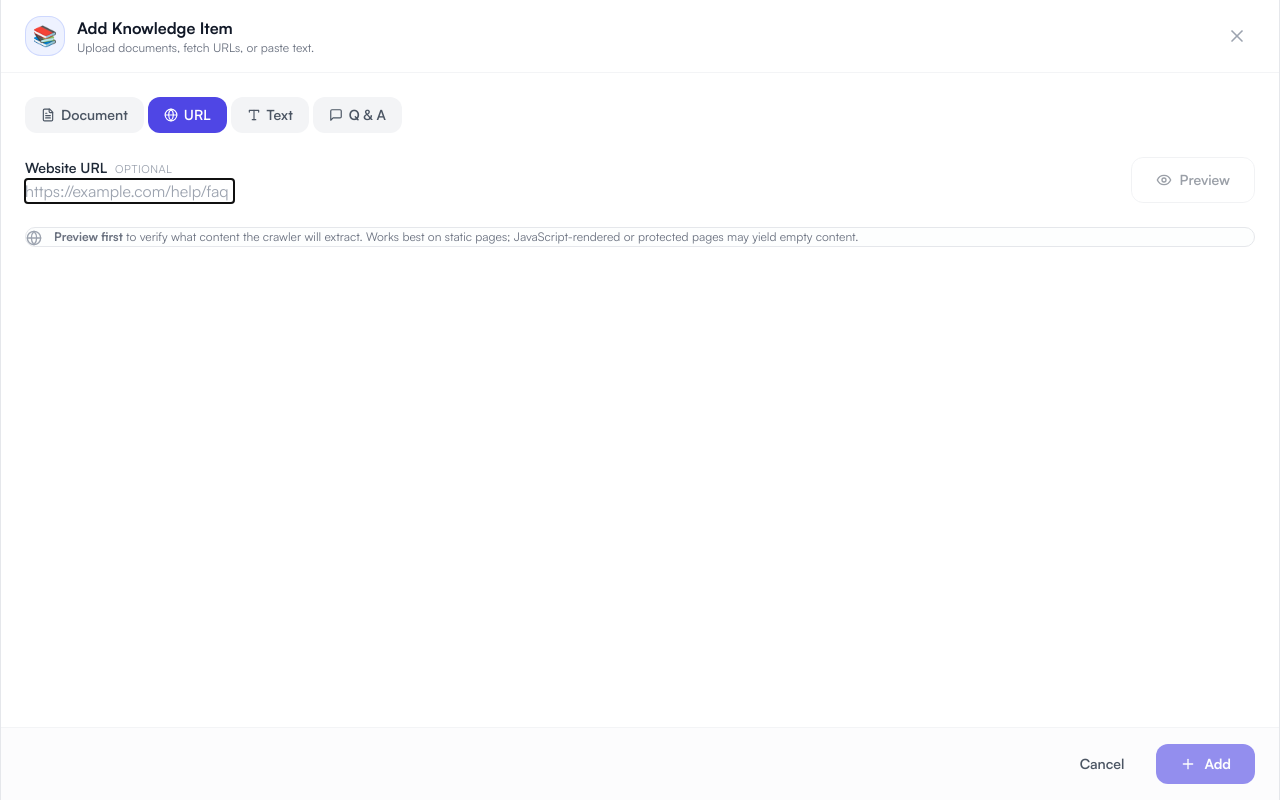
Scenario: URL preview selection › shows prominent quality guidance for poor extraction
Type "https://example.com/page" into the field labelled "Website URL" at (130, 191), box [25,179,234,203]
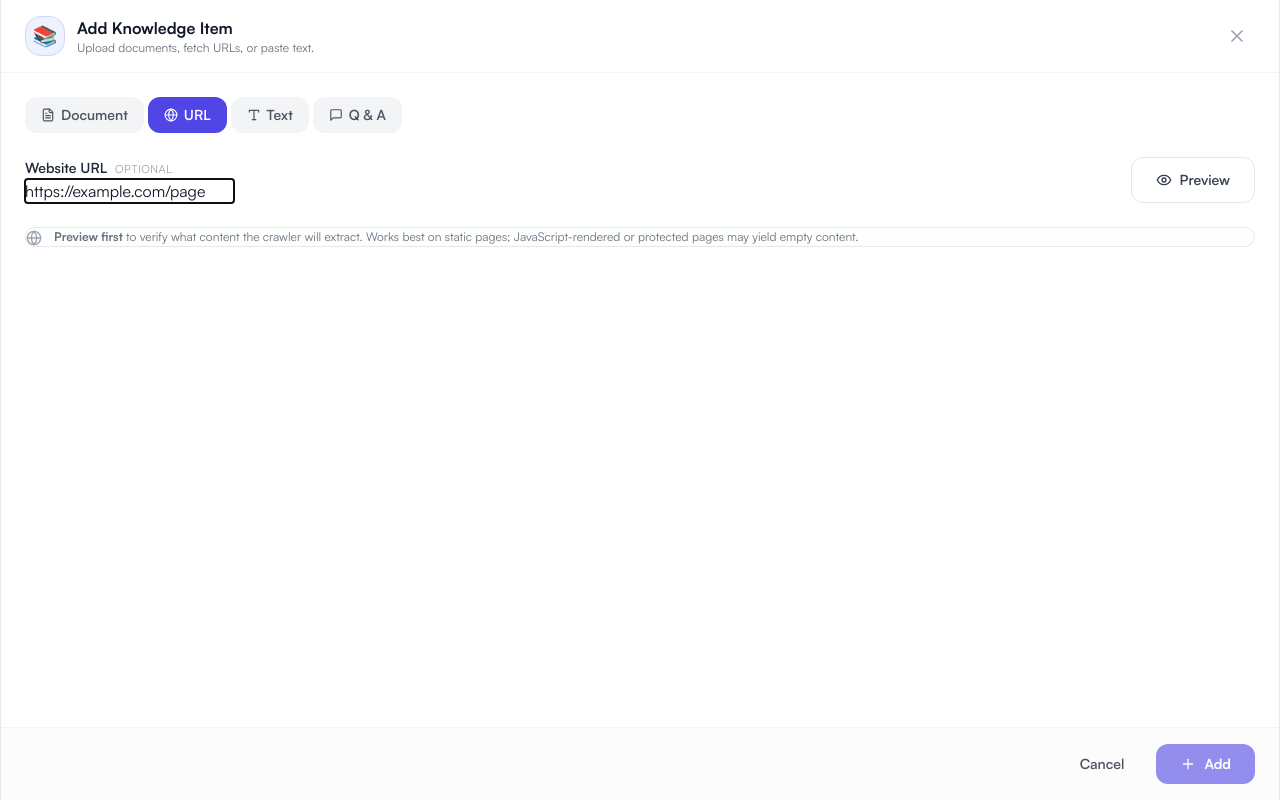
Click the button "Preview" at (1193, 180), box [1131,157,1255,203]
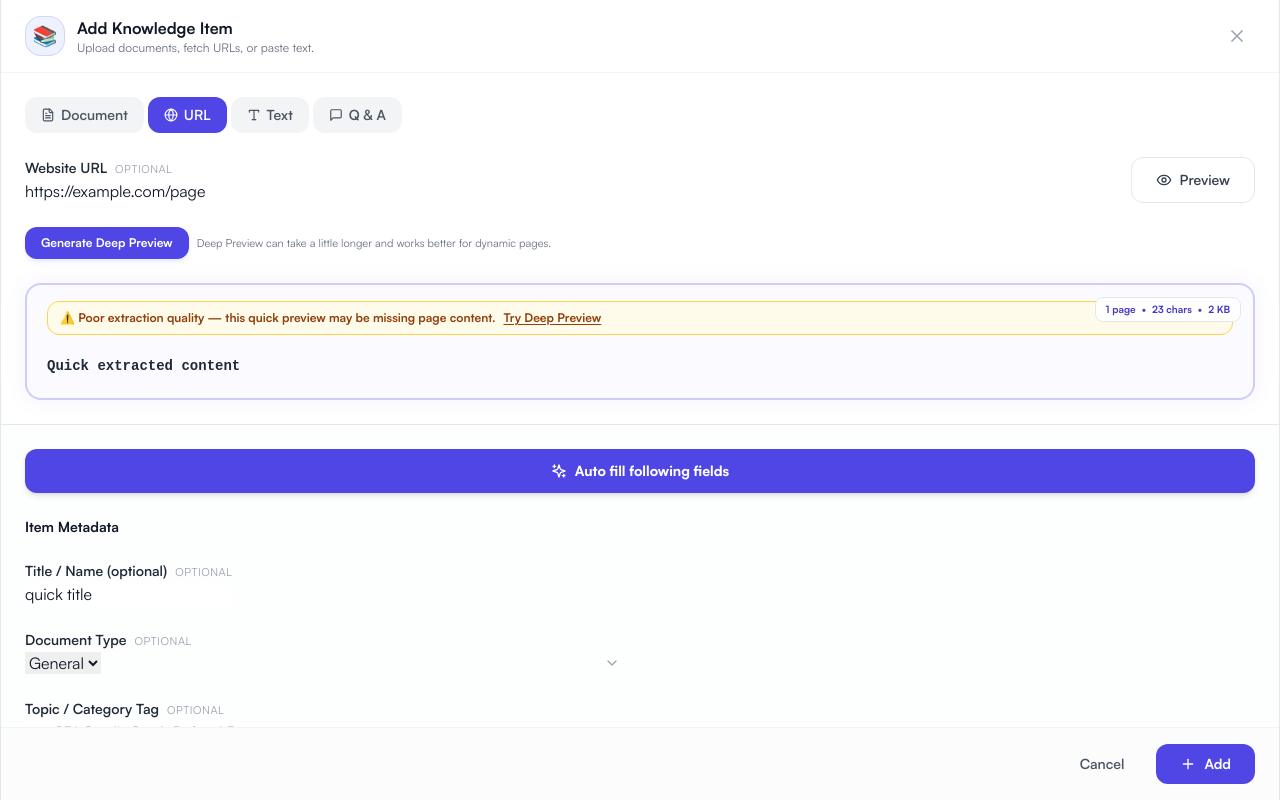
Check: the text "Quick extracted content" is shown, box [47,358,240,374]
Check: the text "Poor extraction quality" is shown, box [60,310,495,325]
Check: the button "Try Deep Preview" is shown, box [503,310,601,326]
